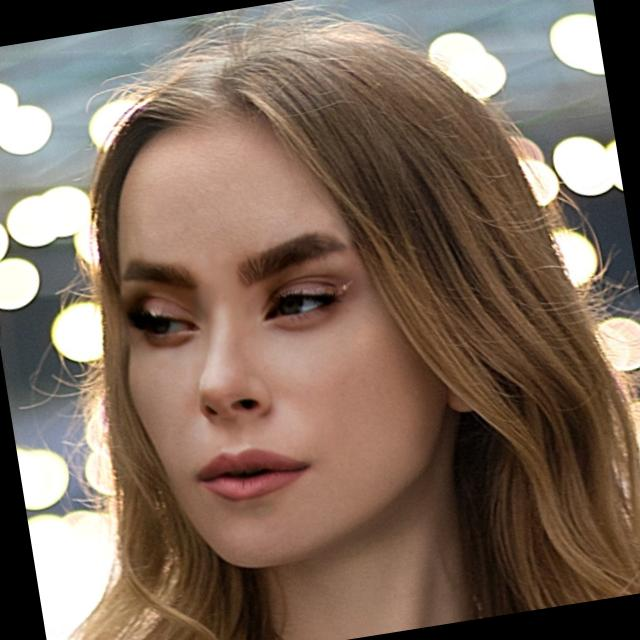face: (88, 89, 486, 602)
